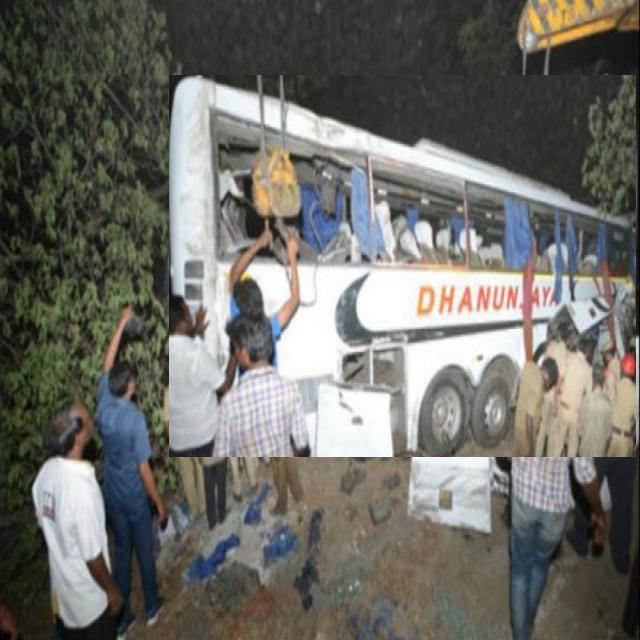accident: (169, 76, 636, 457)
